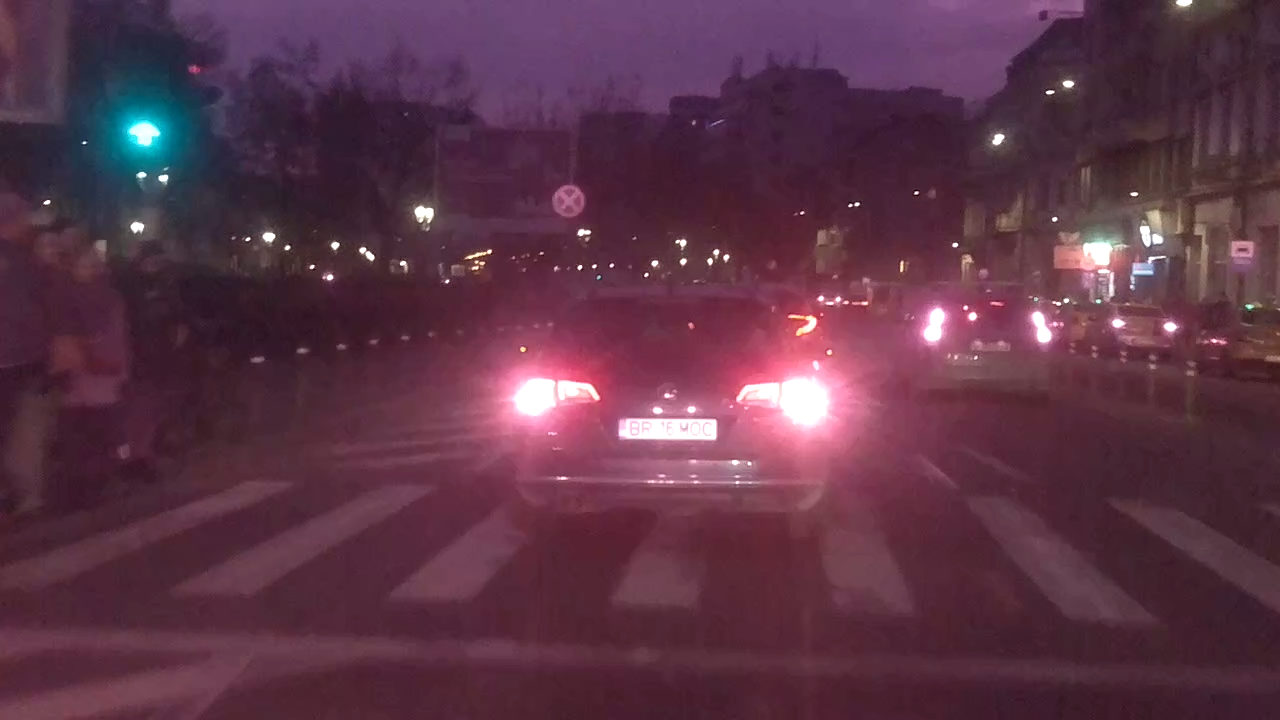license-plate: (614, 415, 721, 443)
